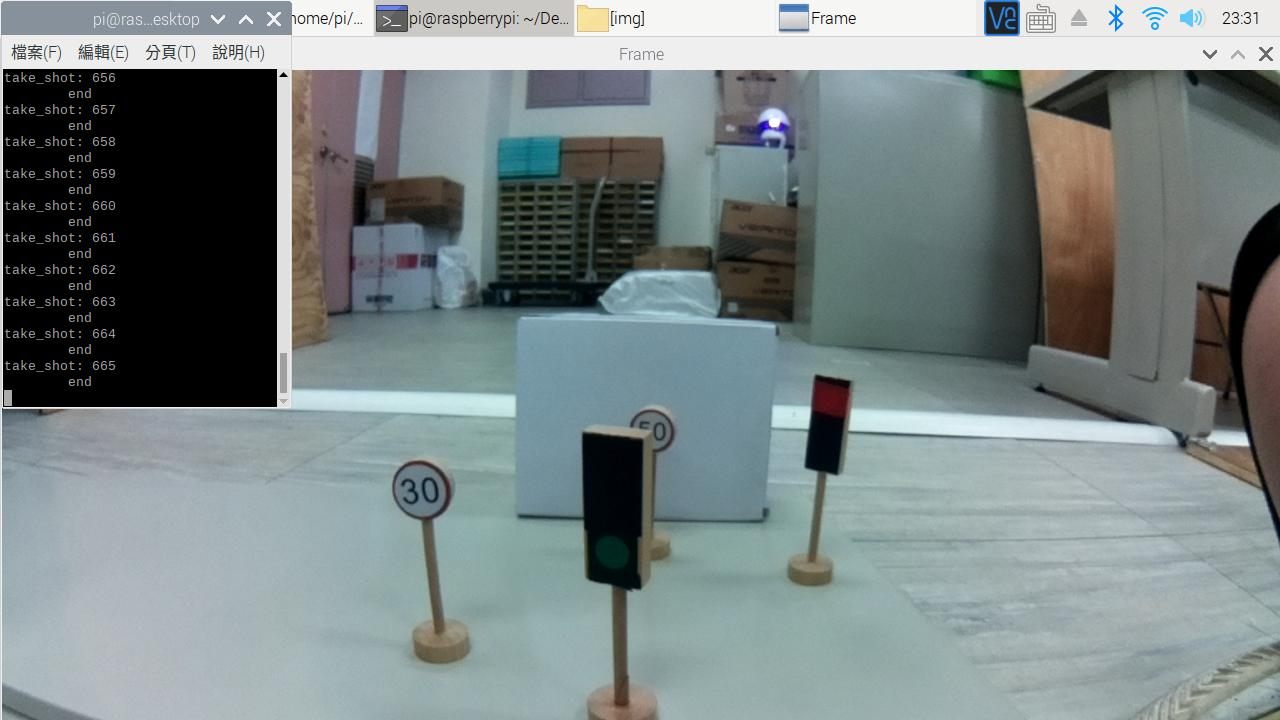Green: (564, 422, 663, 595)
Red: (804, 370, 865, 490)
Speed30: (381, 452, 461, 530)
